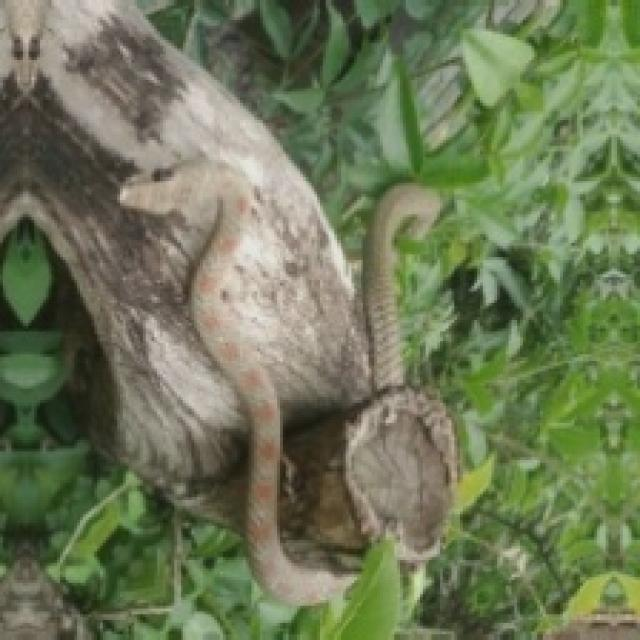paradise tree snake: (0, 0, 454, 600), (120, 157, 366, 600), (346, 183, 454, 557)
